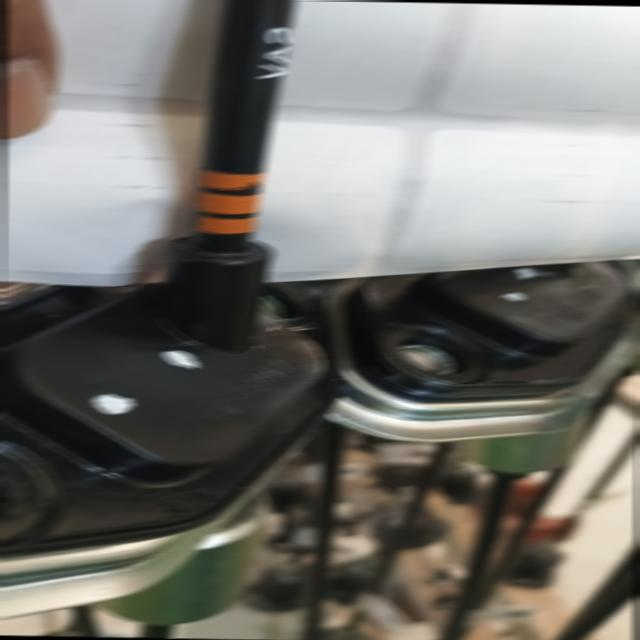orange: (190, 161, 264, 236)
